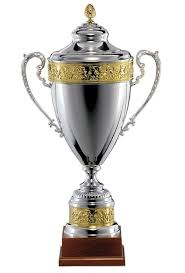trophy: (20, 2, 164, 273)
